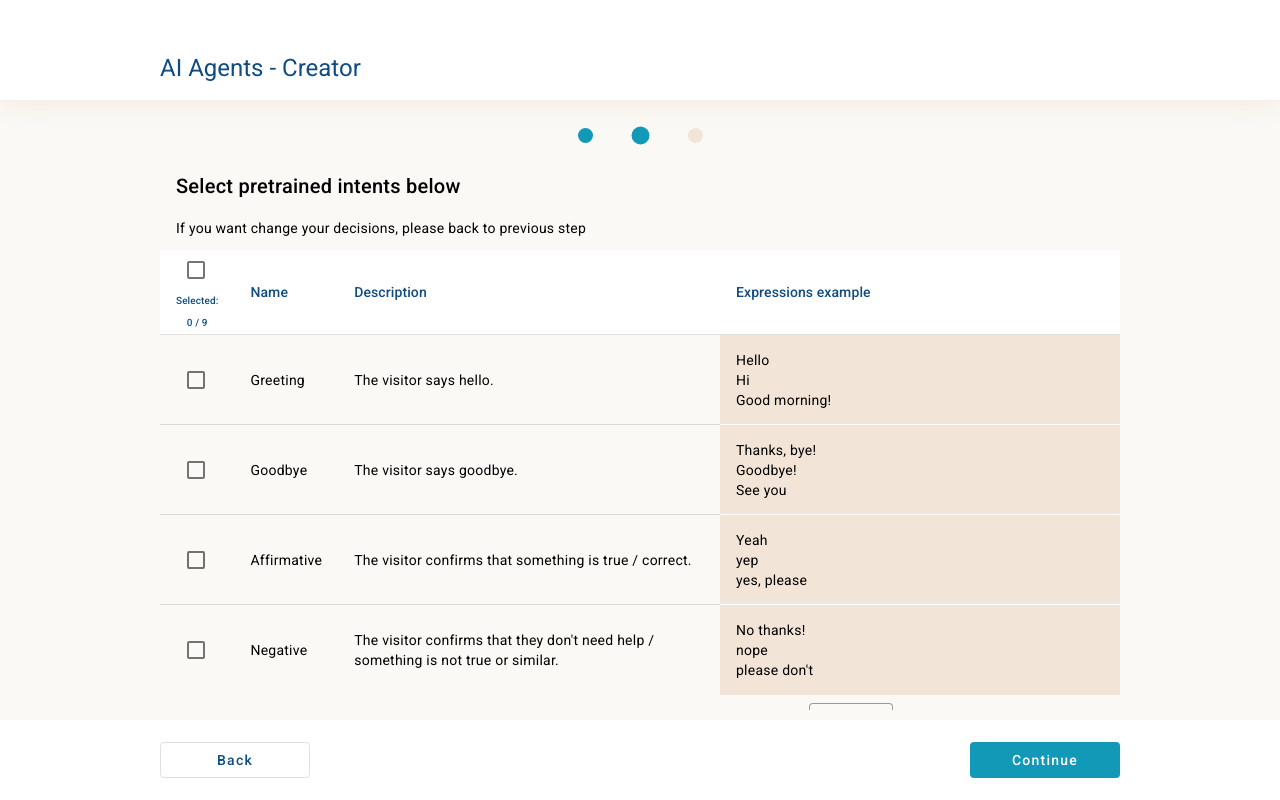
Test: Table with selection checkboxes › should display the correct number of selected intents in the counter
The image size is (1280, 800).
Click the element with test id "intent-checkbox-34d7831e137a4016a55f98926800a643".
click(196, 380)  # box [187,371,205,389]
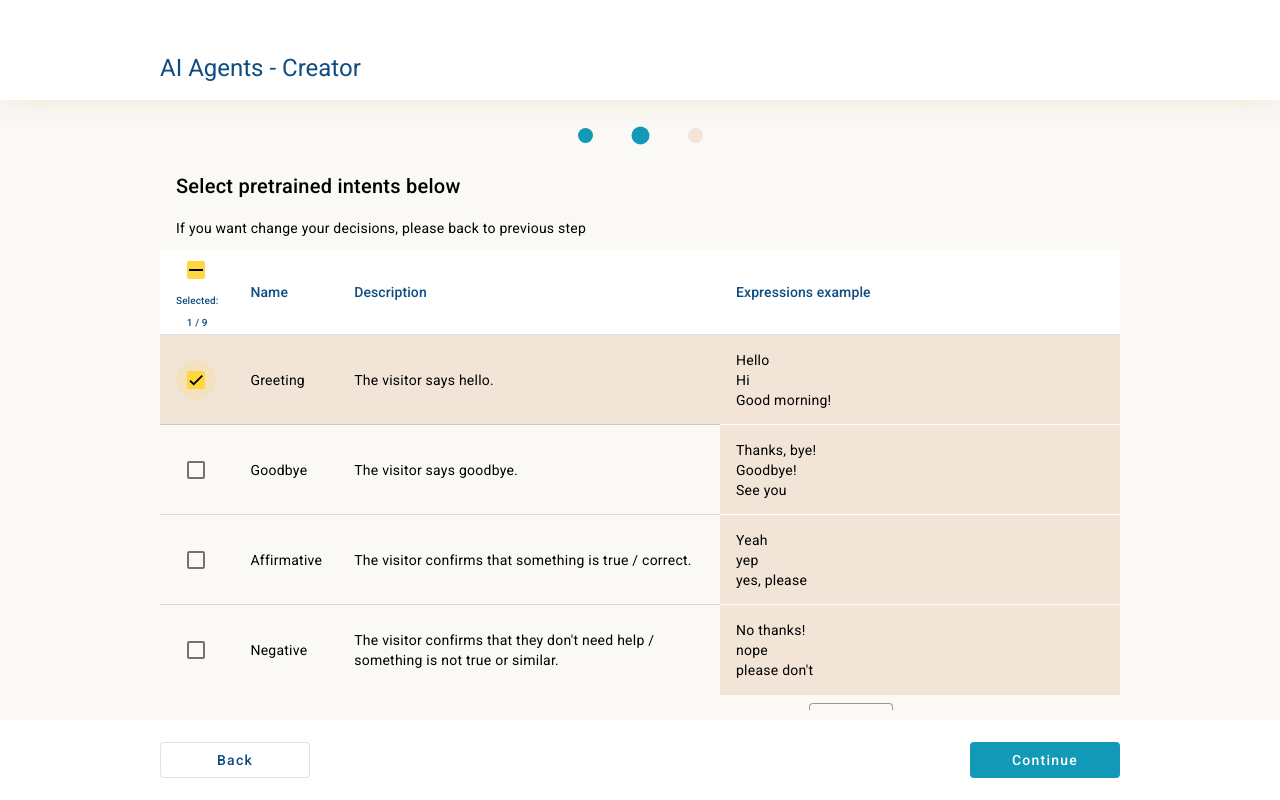
Expected: the text with test id "selected-intents-length" shows "1", [187,317,208,328]
